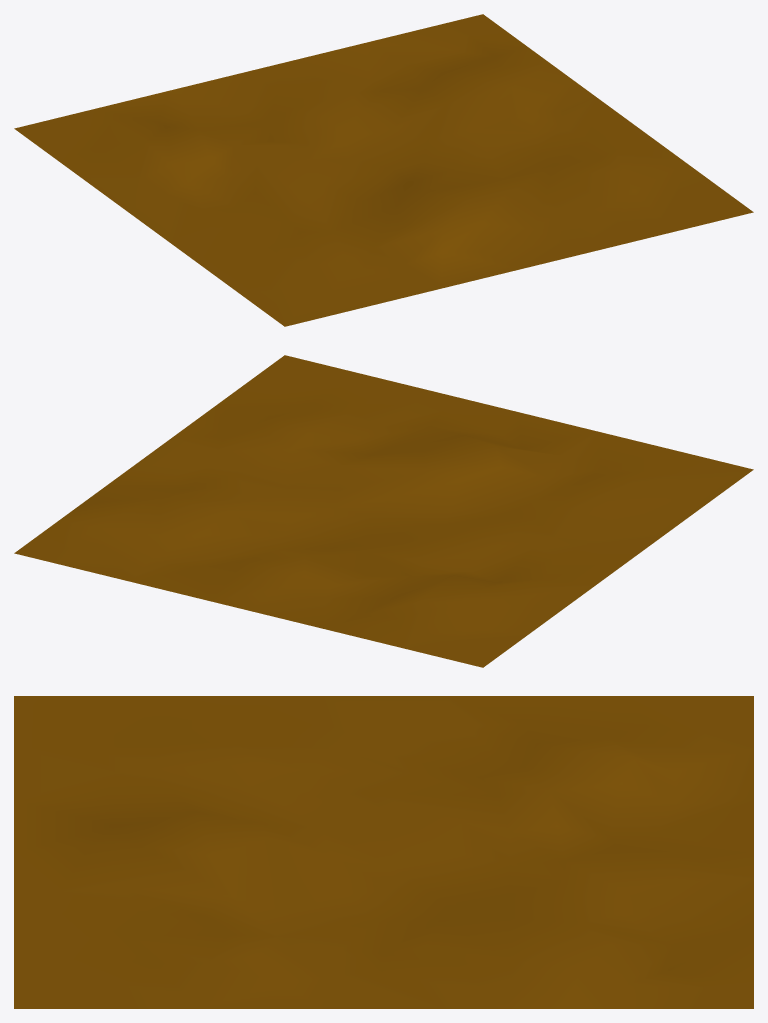
The model's file is steppe.FBX.
3 renders of one model, top to bottom at view 1: azimuth 30°, elevation 25°; view 2: azimuth 150°, elevation 25°; view 3: azimuth 270°, elevation 25°, orthographic. The views are drawn at different scales.
Visible parts, largest first — view 1: Plane067; view 2: Plane067; view 3: Plane067.
Boxes of the visible parts, box(x1,y1,x2,y2) form: Plane067: box(14, 14, 753, 326); Plane067: box(14, 355, 753, 667); Plane067: box(14, 696, 753, 1008).
Bounding box in the file's own units: 200 × 5.96 × 200.
